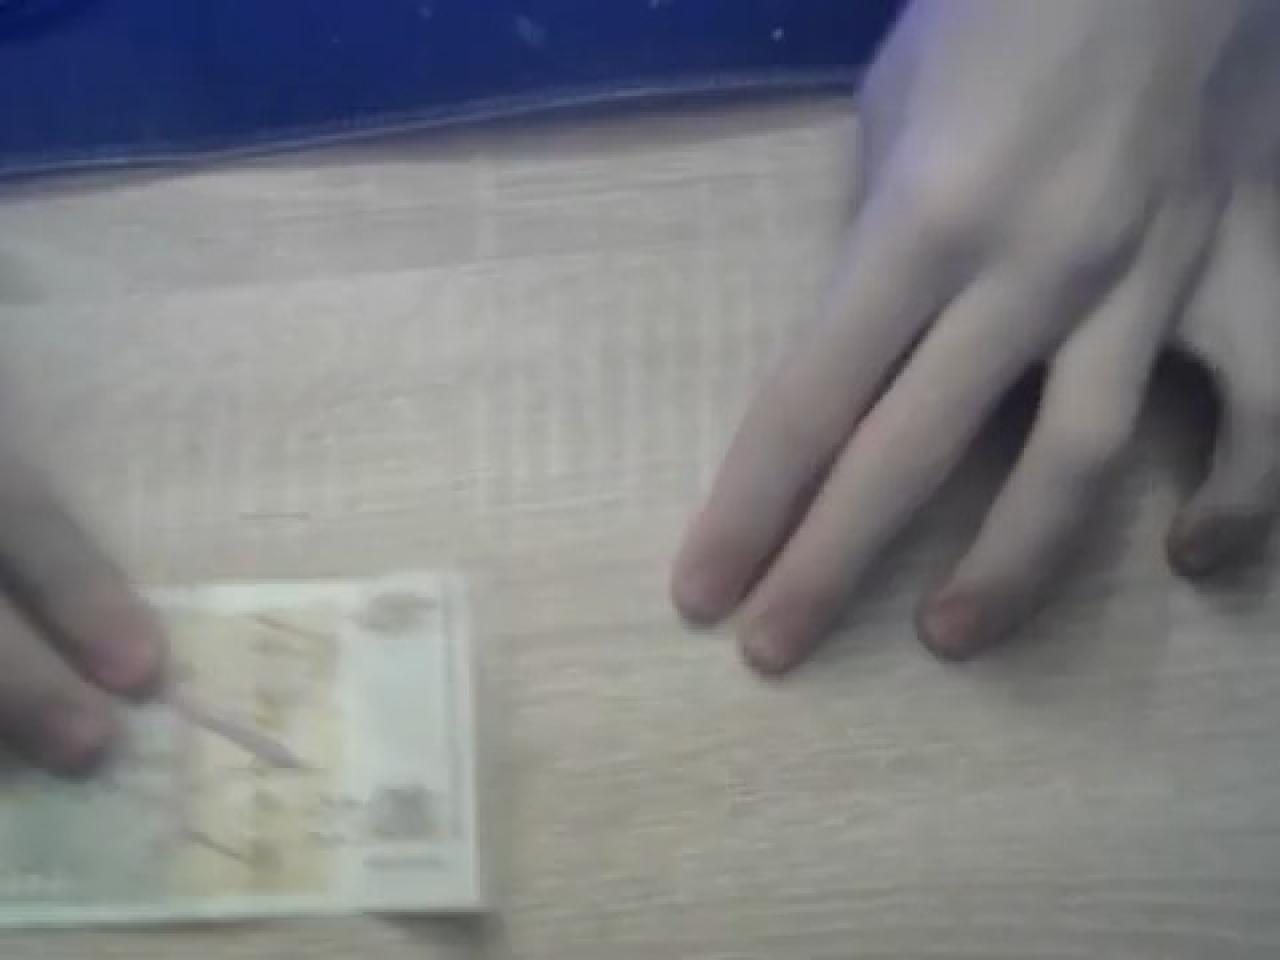10leva: (0, 568, 501, 960)
